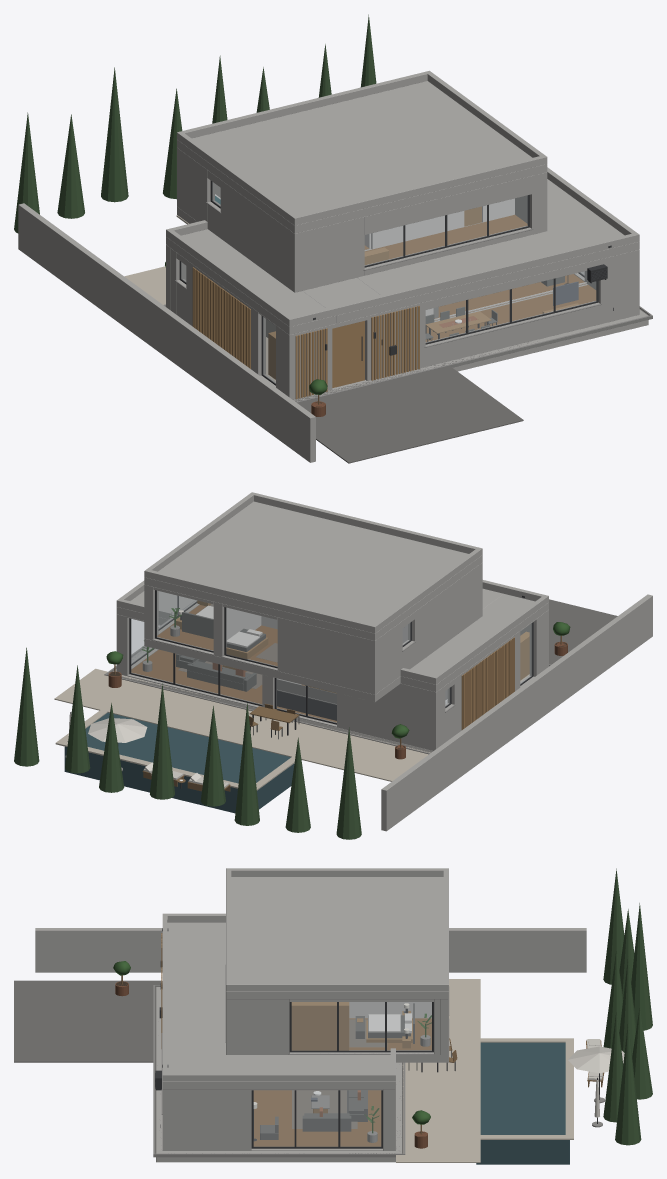
File: haus.glb
3 renders of one model, top to bottom at view 1: azimuth 30°, elevation 25°; view 2: azimuth 150°, elevation 25°; view 3: azimuth 270°, elevation 25°, orthographic. The views are drawn at different scales.
Visible parts, largest first — view 1: p05_dach_platte, p08_gartenmauer, p08_vorplatz, p03_decke_o, p06_gl_eg_n_band_glas, p06_gl_og_n_galerie_glas, p03_decke_w, p04_og_nord_p0, p04_og_west_p0, p02_eg_nord_b1, p03_attika_eg_n, p04_og_nord_s0 (+28 smaller); view 2: p05_dach_platte, p08_gartenmauer, p08_terrasse, p08_pool_becken, p04_og_sued_p0, p02_eg_sued_p0, p06_gl_eg_s_wohnen_glas, p03_decke_w, p04_og_west_p0, p06_gl_og_s_master_glas, p06_gl_og_s_kind2_glas, p05_attika_og_s (+35 smaller); view 3: p05_dach_platte, p08_gartenmauer, p08_vorplatz, p03_decke_o, p08_pool_becken, p08_terrasse, p06_gl_eg_o_wohnen_glas, p06_gl_og_o_master_glas, p02_eg_ost_p0, p07_boden_eg_wohnen, p01_platte, p04_og_ost_p0 (+35 smaller).
Boxes of the visible parts, x1,y1,x2,y2 form: p05_dach_platte: (177,81,547,233); p08_gartenmauer: (18,203,315,462); p08_vorplatz: (293,366,523,463); p03_decke_o: (357,179,639,310); p06_gl_eg_n_band_glas: (426,271,596,342); p06_gl_og_n_galerie_glas: (365,196,527,265); p03_decke_w: (166,229,335,334); p04_og_nord_p0: (290,217,364,292); p04_og_west_p0: (220,180,290,288); p02_eg_nord_b1: (425,301,600,366); p03_attika_eg_n: (286,232,638,326); p04_og_nord_s0: (364,176,531,234); p05_dach_platte: (144,501,482,640); p08_gartenmauer: (381,594,652,831); p08_terrasse: (54,668,430,781); p08_pool_becken: (64,712,294,813); p04_og_sued_p0: (277,617,378,694); p02_eg_sued_p0: (337,683,440,750); p06_gl_eg_s_wohnen_glas: (131,619,261,704); p03_decke_w: (400,594,548,691); p04_og_west_p0: (408,565,478,665); p06_gl_og_s_master_glas: (157,591,212,650); p06_gl_og_s_kind2_glas: (226,608,276,665); p05_attika_og_s: (144,569,376,633); p05_dach_platte: (226,877,448,999); p08_gartenmauer: (35,928,586,972); p08_vorplatz: (14,980,162,1062); p03_decke_o: (162,967,395,1089); p08_pool_becken: (476,1042,569,1164); p08_terrasse: (396,979,480,1162); p06_gl_eg_o_wohnen_glas: (254,1091,380,1146); p06_gl_og_o_master_glas: (292,1002,431,1050); p02_eg_ost_p0: (171,1089,251,1150); p07_boden_eg_wohnen: (253,1090,381,1146); p01_platte: (156,987,401,1162); p04_og_ost_p0: (234,999,289,1054).
Size of what is drawn, in the model's own units: 21.6 by 8.8 by 30.12.
